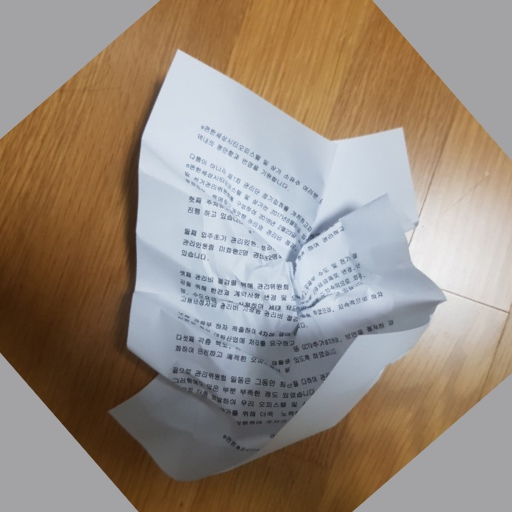Paper_3: (91, 35, 453, 496)
